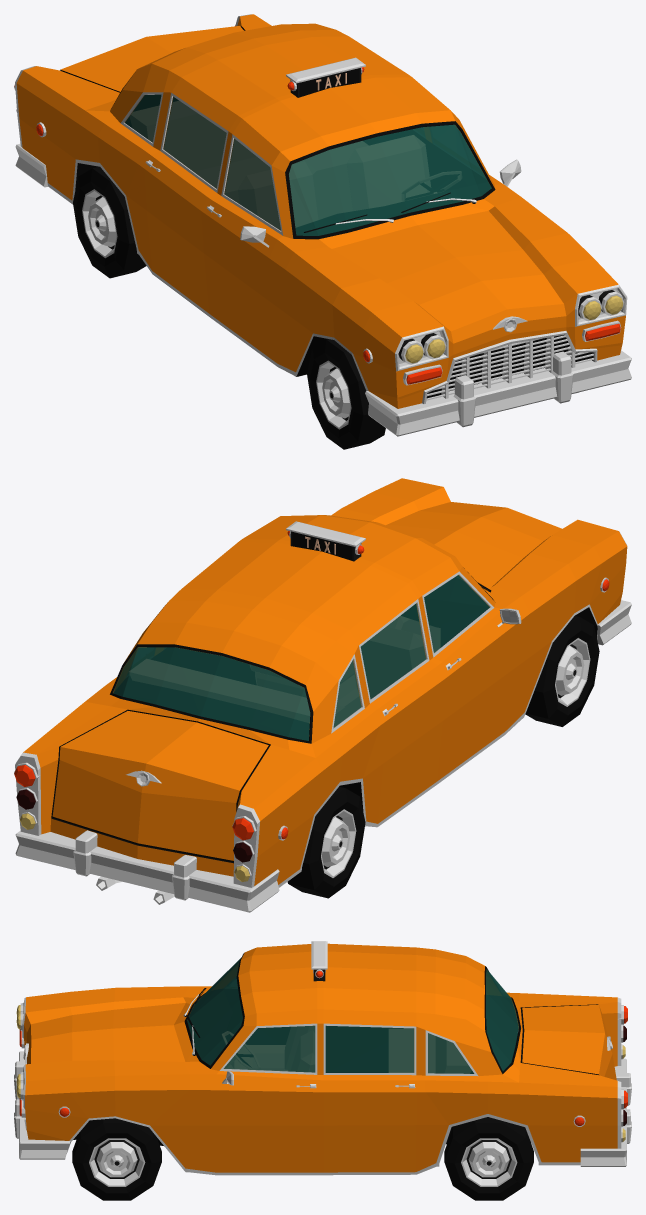
Rendered from Taxi_01.FBX.
3 views of the same model, one above another, from view 1: azimuth 30°, elevation 25°; view 2: azimuth 150°, elevation 25°; view 3: azimuth 270°, elevation 25° (orthographic). The views are drawn at different scales.
Parts seen in each view (by area): view 1: Taxi_01, interieur, bumper_f, wheel_f_r, wheel_b_r, grill, taxiSign, lights, headLights, bumper_b; view 2: Taxi_01, interieur, bumper_b, wheel_b_r, wheel_f_r, taxiSign, bumper_f, lights, tailLights; view 3: Taxi_01, interieur, wheel_b_l, wheel_f_l, bumper_f, bumper_b, lights, taxiSign.
Boxes of the visible parts, bbox=[...] form: Taxi_01: bbox=[15, 14, 627, 408]; interieur: bbox=[125, 95, 491, 235]; bumper_f: bbox=[365, 350, 631, 436]; wheel_f_r: bbox=[307, 339, 385, 449]; wheel_b_r: bbox=[73, 166, 146, 278]; grill: bbox=[426, 335, 594, 400]; taxiSign: bbox=[286, 57, 365, 97]; lights: bbox=[14, 85, 624, 385]; headLights: bbox=[405, 295, 623, 363]; bumper_b: bbox=[15, 143, 47, 187]; Taxi_01: bbox=[15, 478, 627, 887]; interieur: bbox=[113, 575, 489, 740]; bumper_b: bbox=[15, 830, 279, 912]; wheel_b_r: bbox=[287, 786, 365, 898]; wheel_f_r: bbox=[525, 616, 599, 726]; taxiSign: bbox=[286, 521, 365, 561]; bumper_f: bbox=[597, 600, 631, 645]; lights: bbox=[14, 577, 608, 882]; tailLights: bbox=[16, 789, 252, 862]; Taxi_01: bbox=[22, 943, 621, 1175]; interieur: bbox=[187, 959, 518, 1073]; wheel_b_l: bbox=[444, 1117, 533, 1200]; wheel_f_l: bbox=[72, 1118, 161, 1200]; bumper_f: bbox=[14, 1051, 70, 1159]; bumper_b: bbox=[580, 1058, 631, 1166]; lights: bbox=[20, 1002, 623, 1142]; taxiSign: bbox=[311, 941, 327, 981].
Size of the model in its own units: 24.64 by 21.2 by 59.09.
